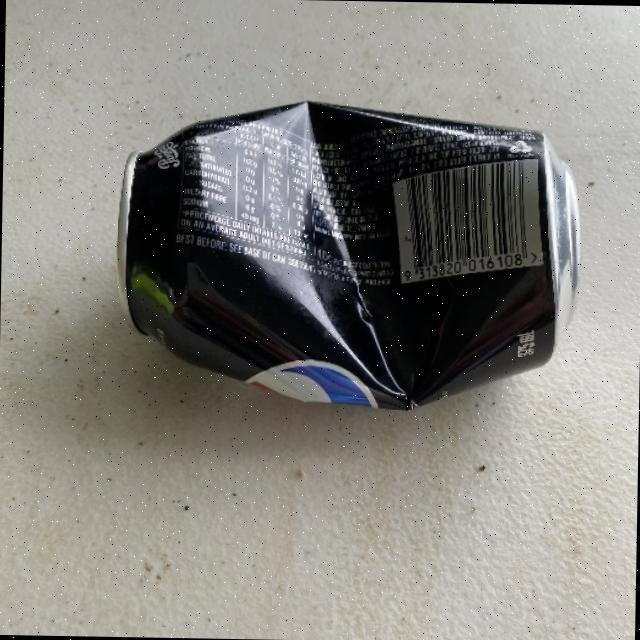metal: (112, 94, 583, 414)
